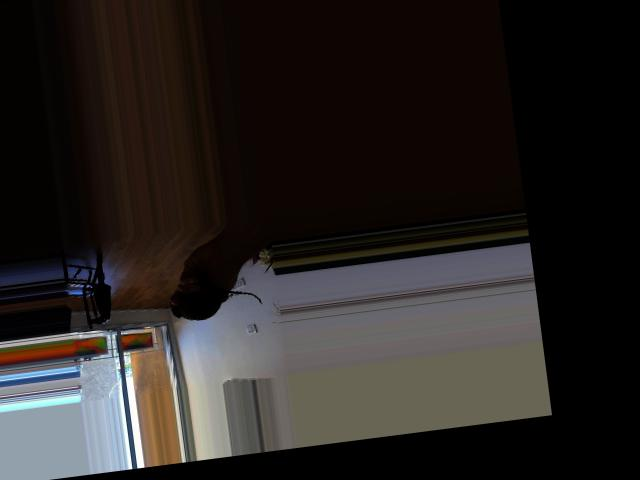beet: (167, 281, 261, 323)
